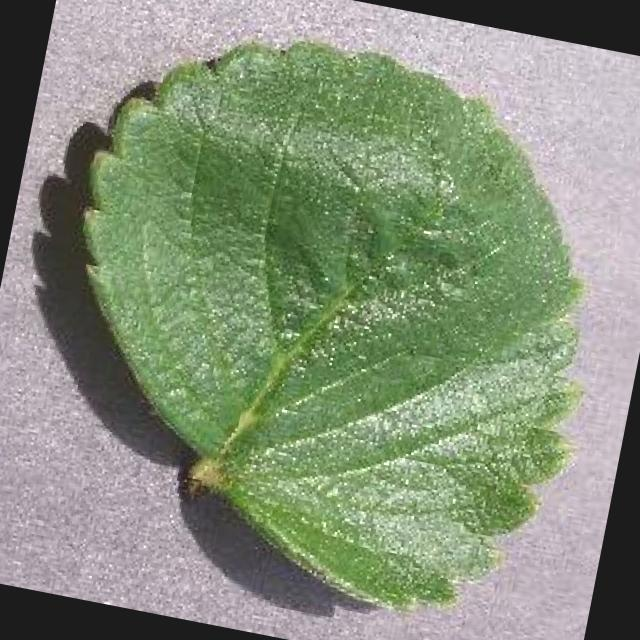healthy: (87, 42, 581, 606)
